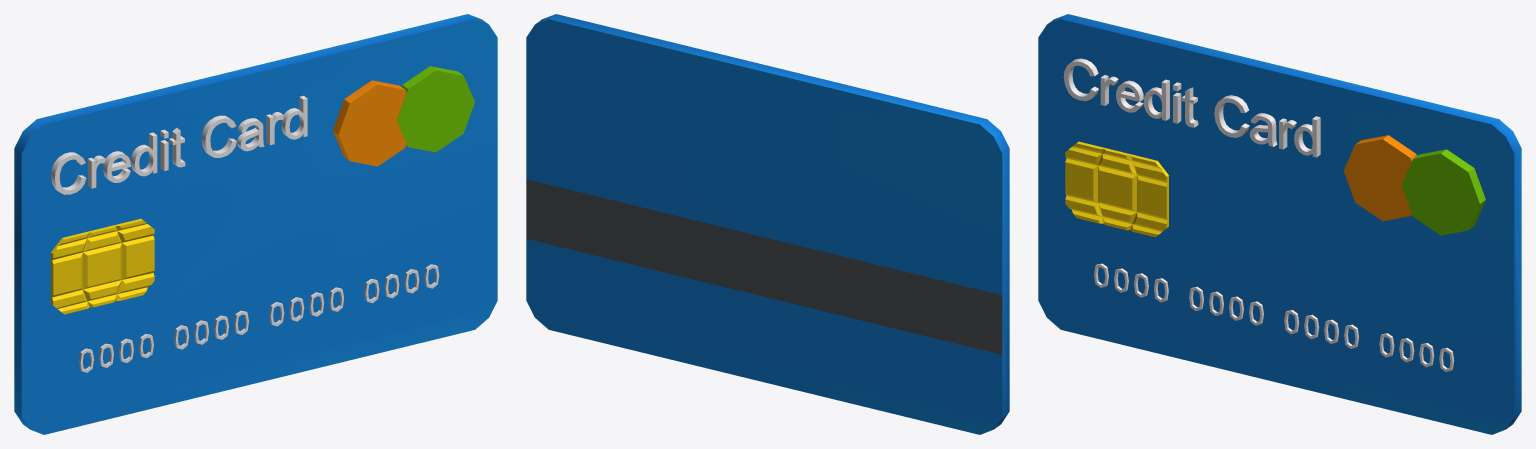
Rendered from creditcard.fbx.
3 views of the same model, side by side, from view 1: azimuth 30°, elevation 25°; view 2: azimuth 150°, elevation 25°; view 3: azimuth 330°, elevation 25° (orthographic).
Visible parts, largest first — view 1: CreditCard; view 2: CreditCard; view 3: CreditCard.
Part boxes in pixels (x1,y1,x2,y2): CreditCard: (14,14,497,434); CreditCard: (526,14,1009,434); CreditCard: (1038,14,1521,434).
Size of the model in its own units: 85 by 53 by 4.09.
1 material, 1 textured.
